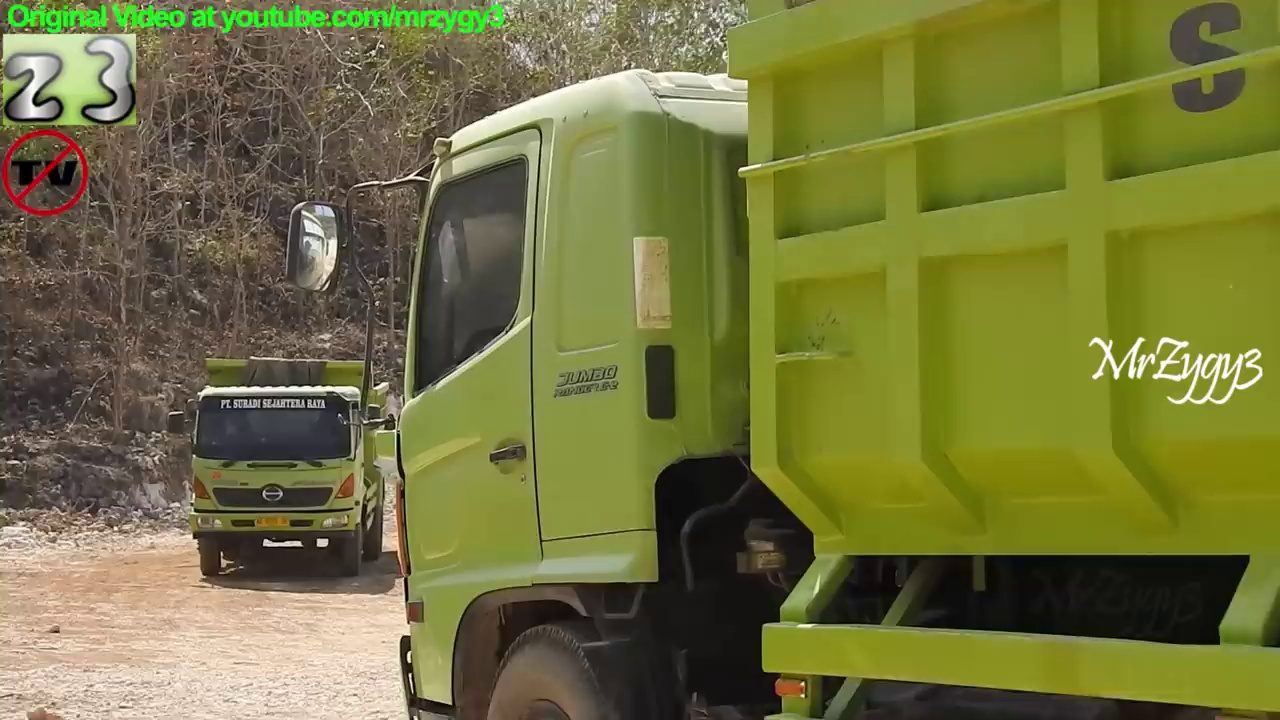truck: (279, 1, 1280, 720), (161, 351, 406, 582)
